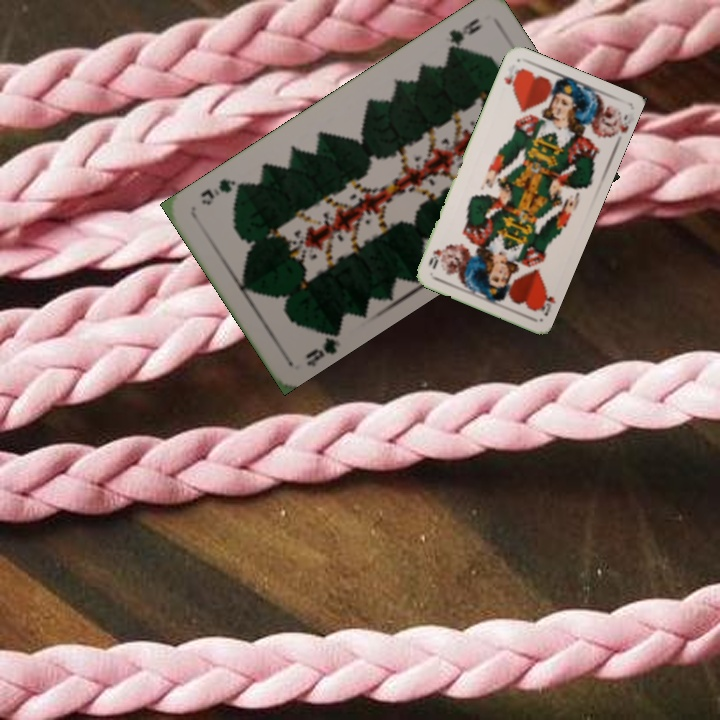G9: (301, 326, 343, 369), (443, 13, 484, 57)
HO: (532, 282, 558, 319), (500, 60, 524, 94)
